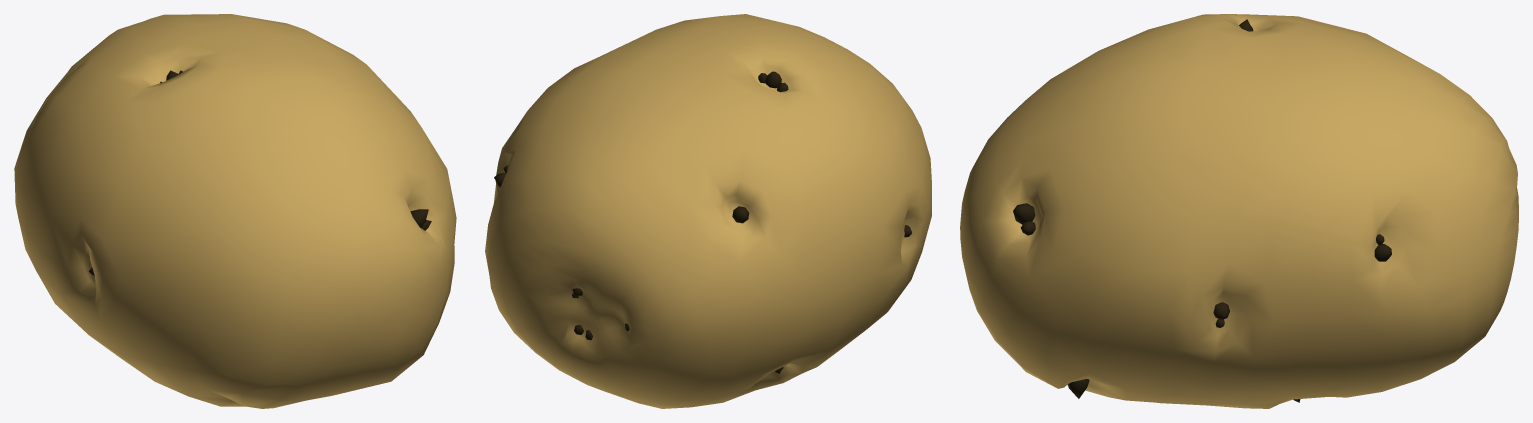
The model's file is PotatoMerged.fbx.
The picture shows the model from 3 angles, left to right: view 1: azimuth 30°, elevation 25°; view 2: azimuth 150°, elevation 25°; view 3: azimuth 270°, elevation 25°; orthographic projection. The views are drawn at different scales.
Parts seen in each view (by area): view 1: PotatoMerged; view 2: PotatoMerged; view 3: PotatoMerged.
Boxes of the visible parts, left/top/right/bottom form: PotatoMerged: left=14, top=14, right=456, bottom=408; PotatoMerged: left=485, top=14, right=931, bottom=408; PotatoMerged: left=960, top=14, right=1518, bottom=408.
Bounding box in the file's own units: 0.7719 × 0.655 × 0.9603.
